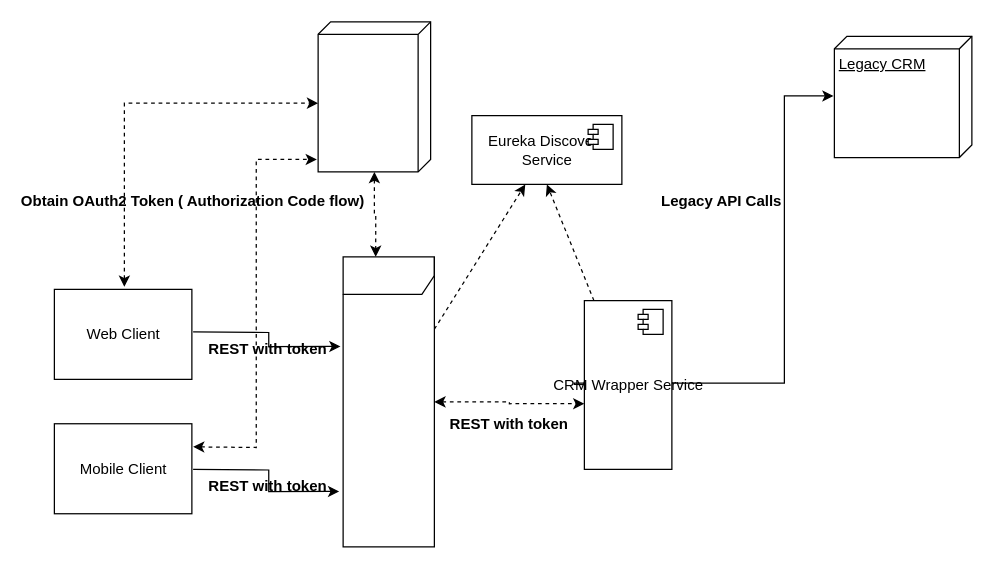
This 994x569 diagram has some shape labels left out. Here are the shapes that lost their labels. From the top down, the centre of each, then its label:
At (x=374, y=96): "OAuth2 Authorisation Server".
At (x=388, y=401): "API GW".
